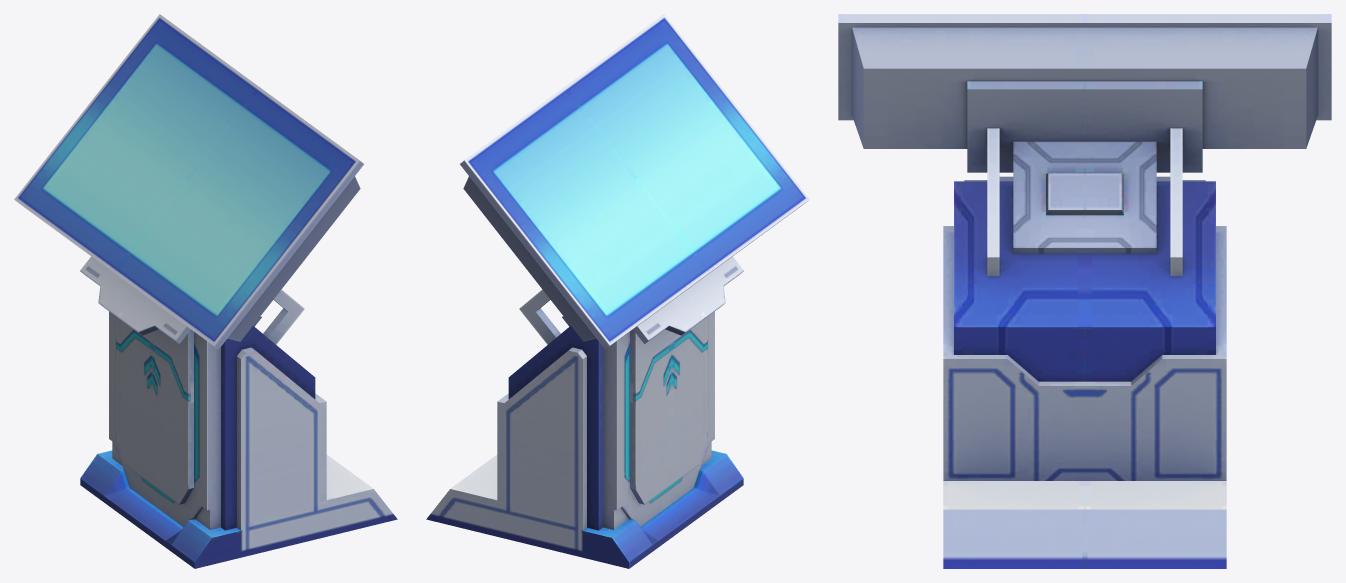
File: my_videopanel_pv04_ep.glb
The picture shows the model from 3 angles, left to right: view 1: azimuth 30°, elevation 25°; view 2: azimuth 150°, elevation 25°; view 3: azimuth 270°, elevation 25°; orthographic projection. The views are drawn at different scales.
Visible parts, largest first — view 1: my_videopanel_pv04_ep; view 2: my_videopanel_pv04_ep; view 3: my_videopanel_pv04_ep.
Boxes of the visible parts, x1=… form: my_videopanel_pv04_ep: x1=14, y1=14, x2=397, y2=568; my_videopanel_pv04_ep: x1=426, y1=14, x2=809, y2=568; my_videopanel_pv04_ep: x1=838, y1=14, x2=1331, y2=568.
Bounding box in the file's own units: 0.00422 × 0.00731 × 0.00645.
1 material, 1 textured.
